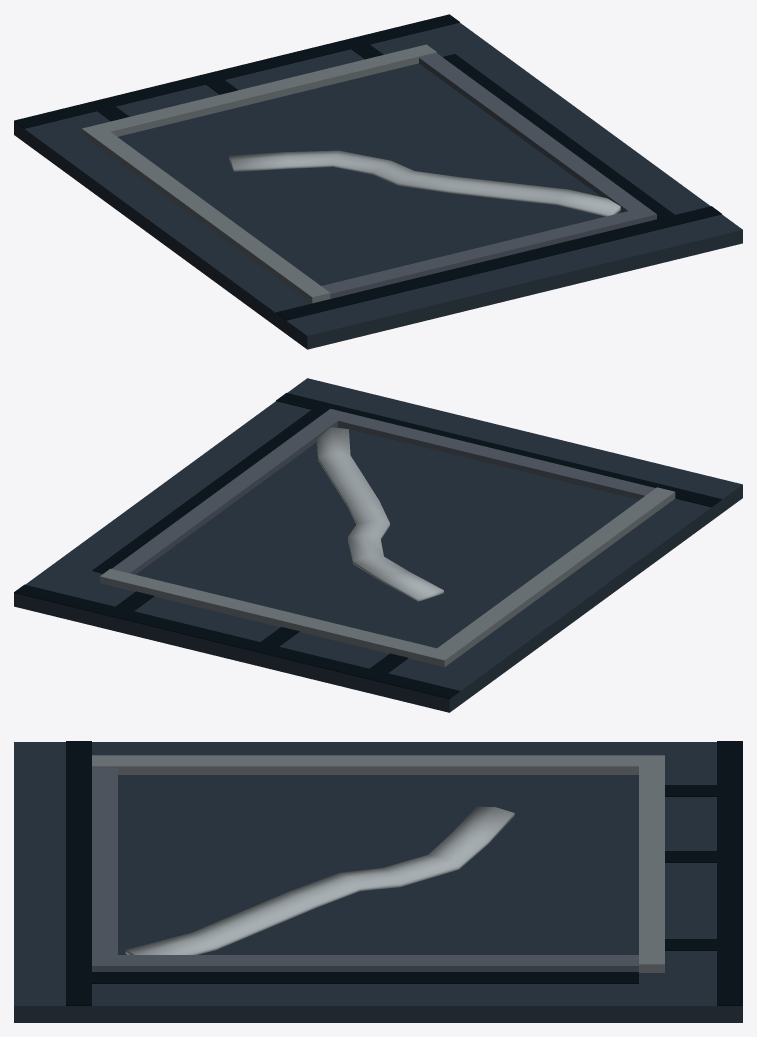
File: newshc-1.glb
3 renders of one model, top to bottom at view 1: azimuth 30°, elevation 25°; view 2: azimuth 150°, elevation 25°; view 3: azimuth 270°, elevation 25°, orthographic. The views are drawn at different scales.
Parts seen in each view (by area): view 1: newshc-1; view 2: newshc-1; view 3: newshc-1.
Boxes of the visible parts, x1,y1,x2,y2 form: newshc-1: (14, 14, 742, 349); newshc-1: (14, 378, 742, 712); newshc-1: (14, 741, 742, 1022).
Size of the model in its own units: 2 by 0.09 by 2.33.
